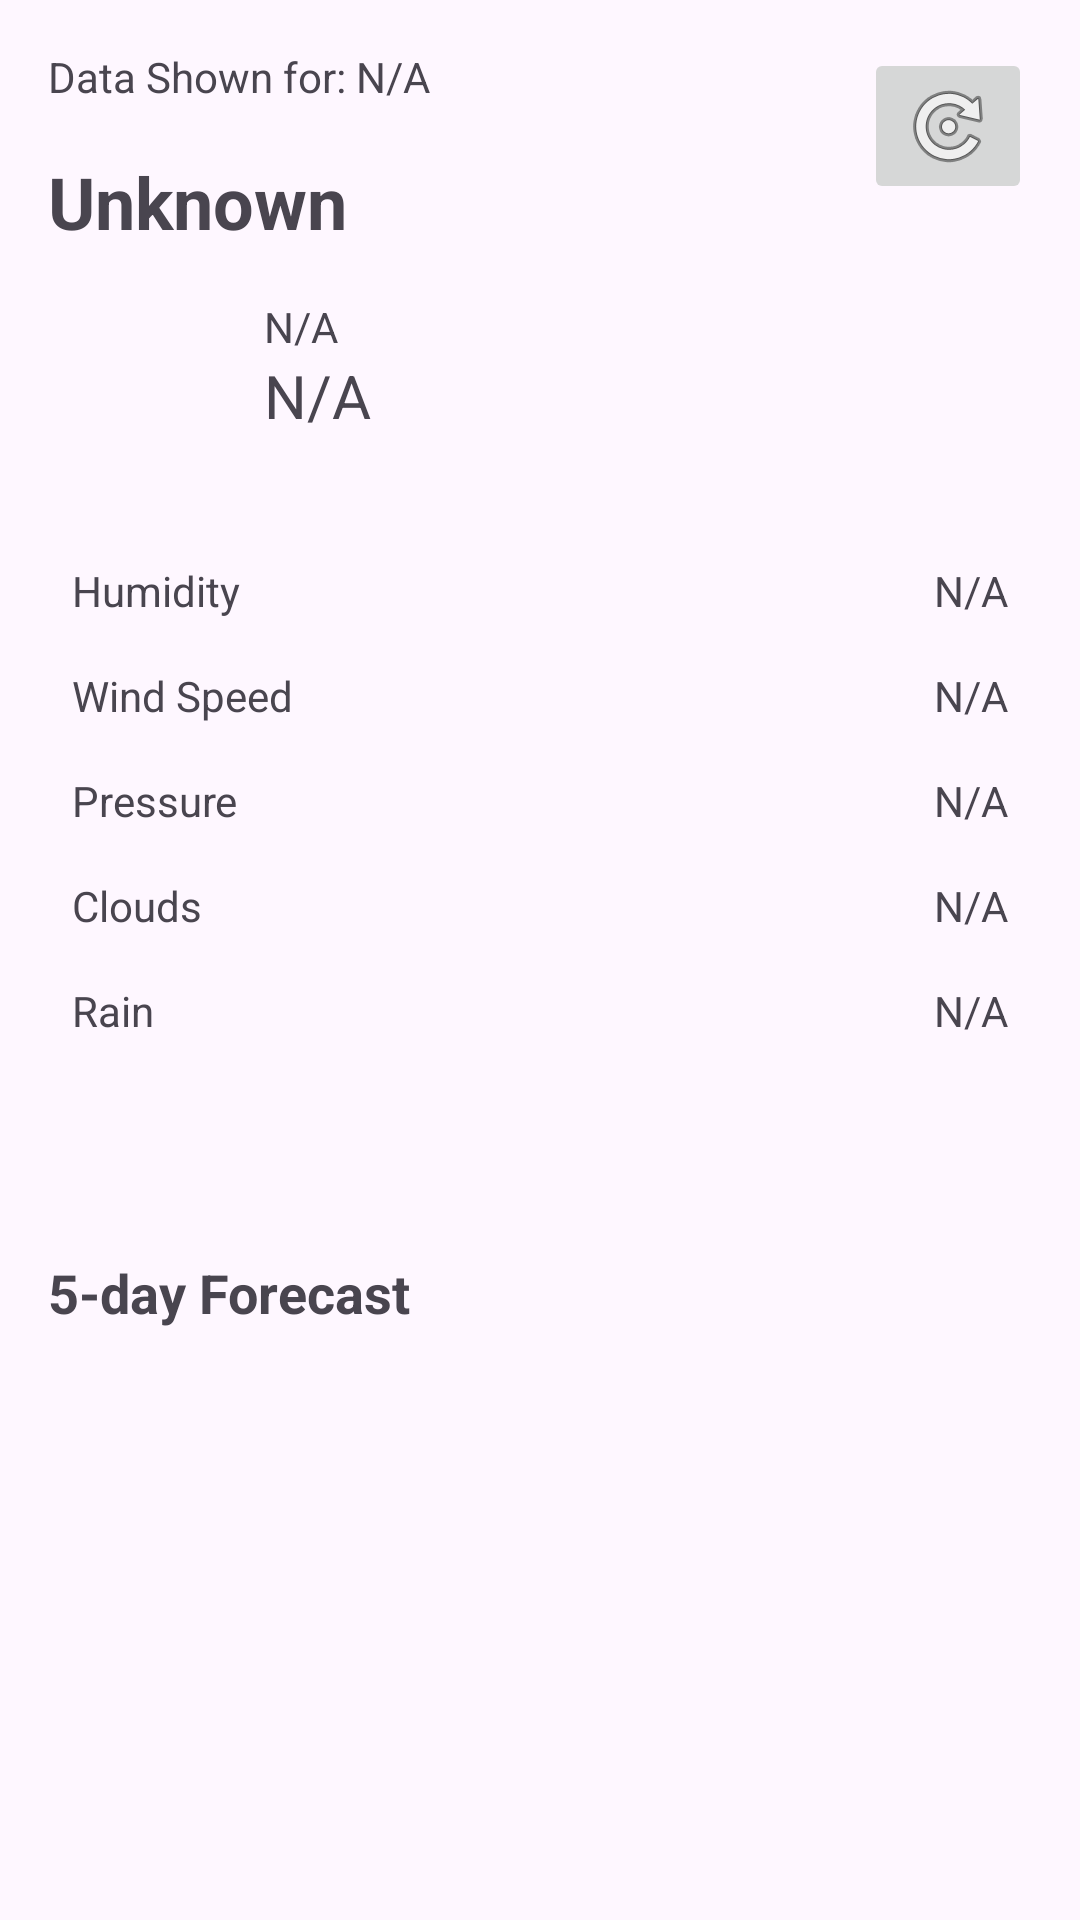

Screen size 1080×1920. Icon name, then its box in pixels as (x1, y1, x2, y2):
Refresh: (876, 66, 1020, 186)
